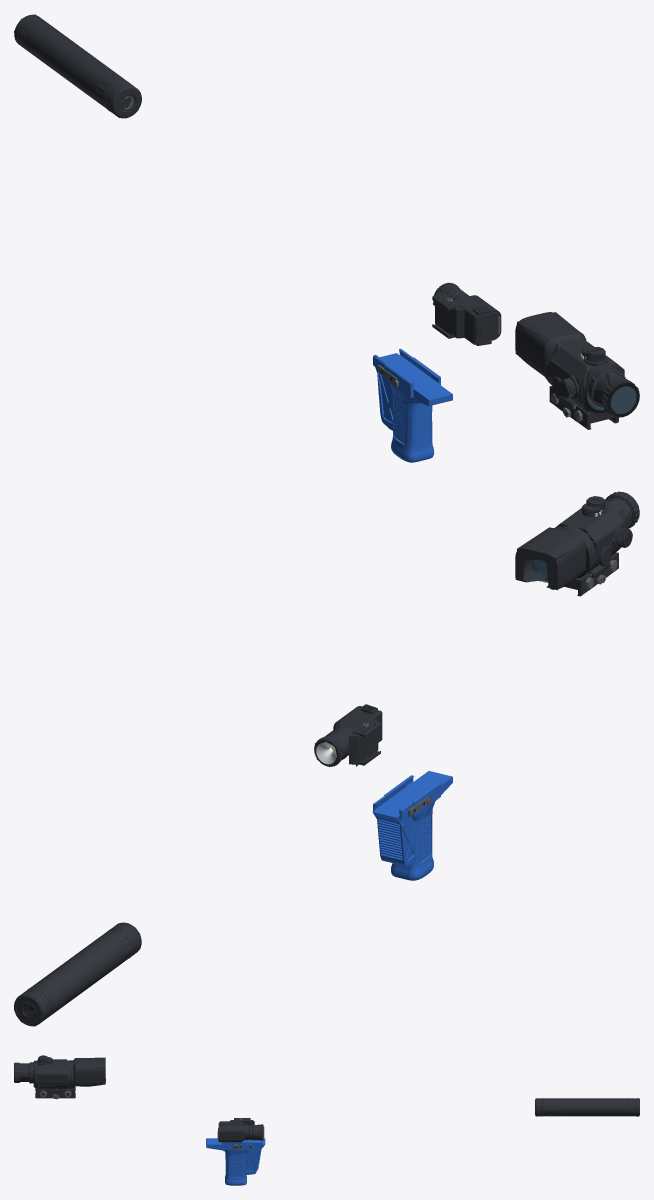
The model's file is sniper.glb.
3 views of the same model, one above another, from view 1: azimuth 30°, elevation 25°; view 2: azimuth 150°, elevation 25°; view 3: azimuth 270°, elevation 25° (orthographic). The views are drawn at different scales.
Visible parts, largest first — view 1: muzzle_silencer, optic_scopeVar, optic_scope2x, light_weaponTorch, grip_vertical, grip_vertical_Figure, grip_angled, optic_scopeVar_Figure, optic_scope2x_Figure, muzzle_silencer_Figure; view 2: muzzle_silencer, optic_scopeVar, optic_scope2x, grip_angled, light_weaponTorch, grip_vertical, optic_scopeVar_Figure, grip_vertical_Figure, light_weaponTorch_Figure, muzzle_silencer_Figure; view 3: muzzle_silencer, optic_scopeVar, optic_scope2x, light_weaponTorch, grip_vertical, grip_angled, grip_vertical_Figure, muzzle_silencer_Figure, optic_scopeVar_Figure, optic_scope2x_Figure, grip_angled_Figure.
Boxes of the visible parts, bbox=[...] form: muzzle_silencer: bbox=[14, 14, 141, 118]; optic_scopeVar: bbox=[515, 312, 639, 429]; optic_scope2x: bbox=[544, 337, 624, 420]; light_weaponTorch: bbox=[432, 282, 501, 345]; grip_vertical: bbox=[384, 357, 440, 462]; grip_vertical_Figure: bbox=[384, 357, 440, 462]; grip_angled: bbox=[373, 348, 452, 430]; optic_scopeVar_Figure: bbox=[515, 312, 638, 429]; optic_scope2x_Figure: bbox=[545, 338, 622, 421]; muzzle_silencer_Figure: bbox=[14, 14, 141, 118]; muzzle_silencer: bbox=[14, 922, 141, 1026]; optic_scopeVar: bbox=[515, 491, 639, 596]; optic_scope2x: bbox=[555, 496, 632, 589]; grip_angled: bbox=[373, 771, 452, 866]; light_weaponTorch: bbox=[314, 704, 382, 766]; grip_vertical: bbox=[384, 775, 440, 880]; optic_scopeVar_Figure: bbox=[515, 495, 638, 595]; grip_vertical_Figure: bbox=[384, 776, 440, 880]; light_weaponTorch_Figure: bbox=[314, 712, 382, 767]; muzzle_silencer_Figure: bbox=[14, 923, 141, 1026]; muzzle_silencer: bbox=[535, 1098, 639, 1116]; optic_scopeVar: bbox=[14, 1057, 105, 1098]; optic_scope2x: bbox=[33, 1055, 73, 1099]; light_weaponTorch: bbox=[217, 1118, 263, 1142]; grip_vertical: bbox=[222, 1141, 249, 1185]; grip_angled: bbox=[206, 1138, 265, 1174]; grip_vertical_Figure: bbox=[222, 1139, 249, 1185]; muzzle_silencer_Figure: bbox=[535, 1098, 639, 1116]; optic_scopeVar_Figure: bbox=[15, 1057, 105, 1097]; optic_scope2x_Figure: bbox=[34, 1058, 74, 1098]; grip_angled_Figure: bbox=[210, 1142, 262, 1171].
Bounding box in the file's own units: 0.0923 × 0.1969 × 0.8963.
